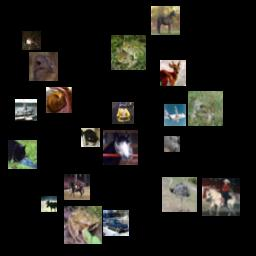airplane: (164, 104, 186, 126)
automobile: (103, 210, 129, 236), (112, 102, 134, 124)
bird: (162, 177, 197, 212), (29, 52, 58, 81)
cat: (8, 140, 37, 169), (46, 87, 72, 113)
deer: (160, 60, 186, 86), (41, 196, 57, 212), (164, 136, 180, 152)
dog: (81, 128, 100, 147)
frog: (64, 206, 102, 244), (188, 91, 223, 126), (111, 35, 146, 70), (22, 31, 41, 50)
ship: (15, 99, 37, 121)
